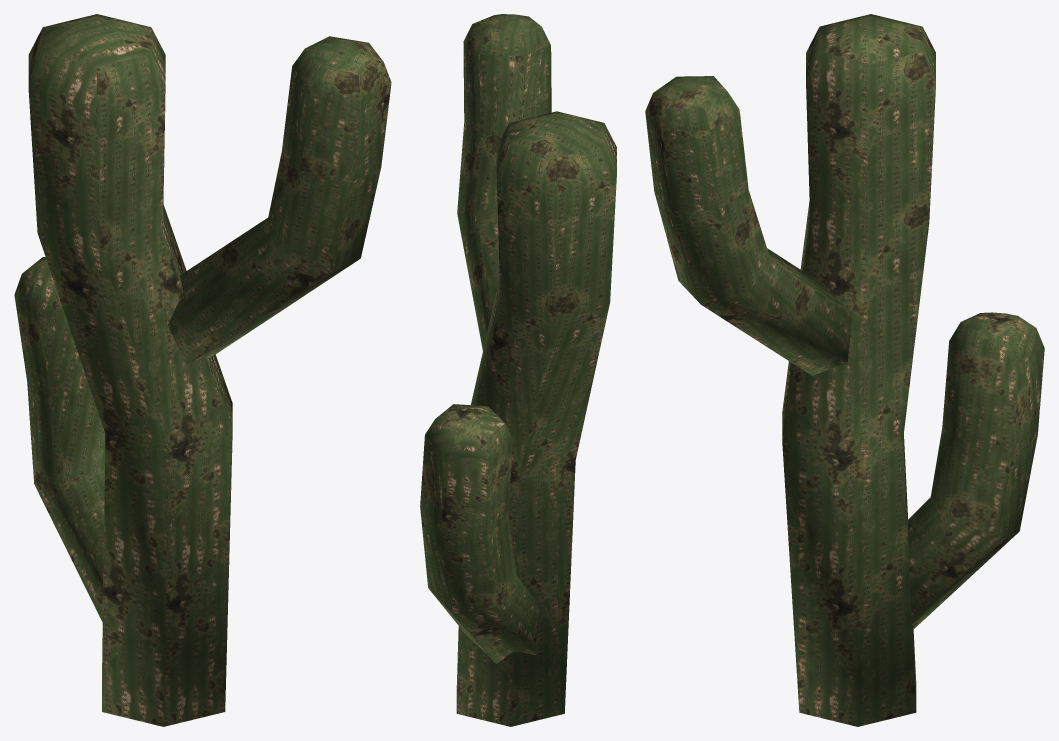
File: oldwest_10.obj
The picture shows the model from 3 angles, left to right: view 1: azimuth 30°, elevation 25°; view 2: azimuth 150°, elevation 25°; view 3: azimuth 270°, elevation 25°; orthographic projection. The views are drawn at different scales.
Visible parts, largest first — view 1: Cylinder.001, Cylinder.002, Cylinder.003; view 2: Cylinder.001, Cylinder.003, Cylinder.002; view 3: Cylinder.001, Cylinder.002, Cylinder.003.
Part boxes in pixels (x1=…): Cylinder.001: x1=28, y1=14, x2=232, y2=726; Cylinder.002: x1=168, y1=36, x2=391, y2=363; Cylinder.003: x1=14, y1=257, x2=104, y2=622; Cylinder.001: x1=456, y1=111, x2=616, y2=726; Cylinder.003: x1=420, y1=404, x2=539, y2=663; Cylinder.002: x1=457, y1=14, x2=551, y2=350; Cylinder.001: x1=782, y1=14, x2=935, y2=726; Cylinder.002: x1=645, y1=76, x2=851, y2=375; Cylinder.003: x1=907, y1=312, x2=1044, y2=629.
Bounding box in the file's own units: 1.17 × 2.99 × 1.65.
1 material, 1 textured.
